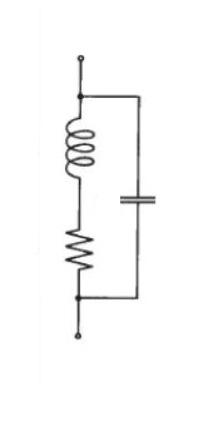resistor: (54, 214, 101, 289)
